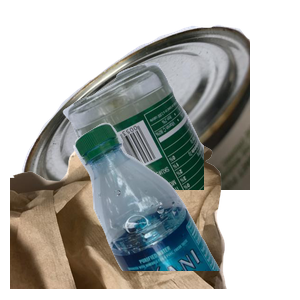glass: (60, 60, 300, 240)
metal: (19, 22, 259, 202)
plastic: (71, 120, 300, 300)
trash: (10, 120, 229, 300)
